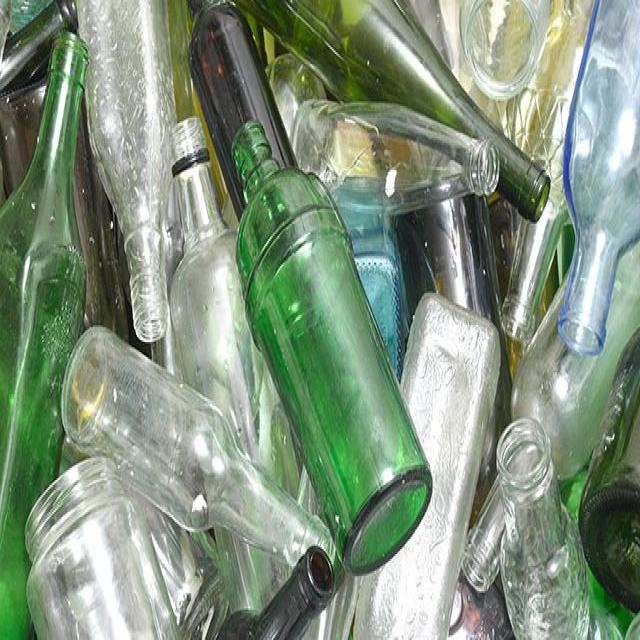Vidrio: (227, 104, 439, 584), (230, 0, 555, 239), (53, 312, 342, 578), (0, 17, 99, 640), (555, 0, 640, 367), (492, 406, 598, 640)
